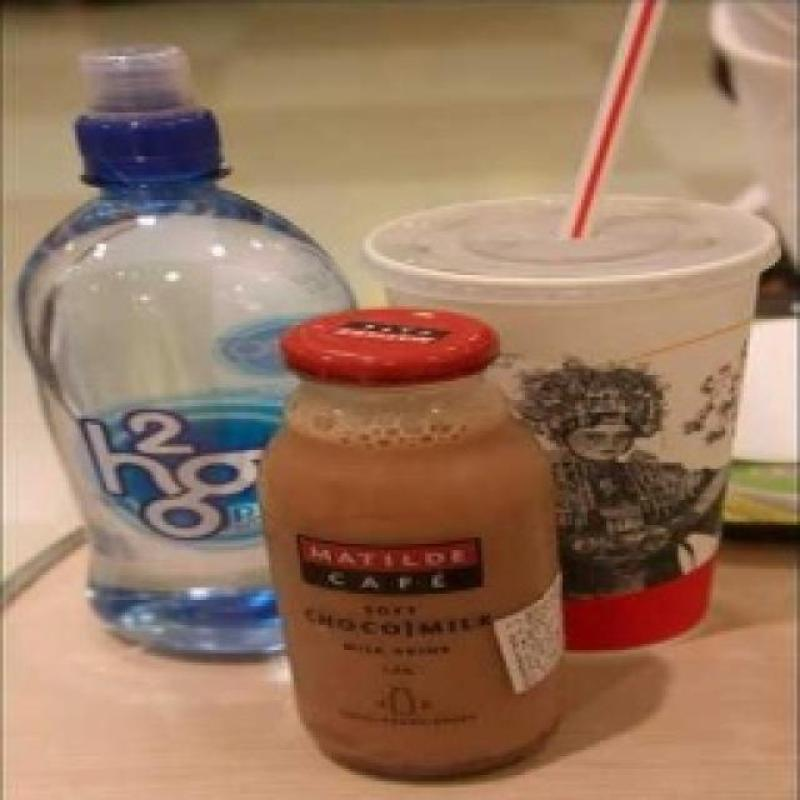botella: (22, 46, 353, 676)
